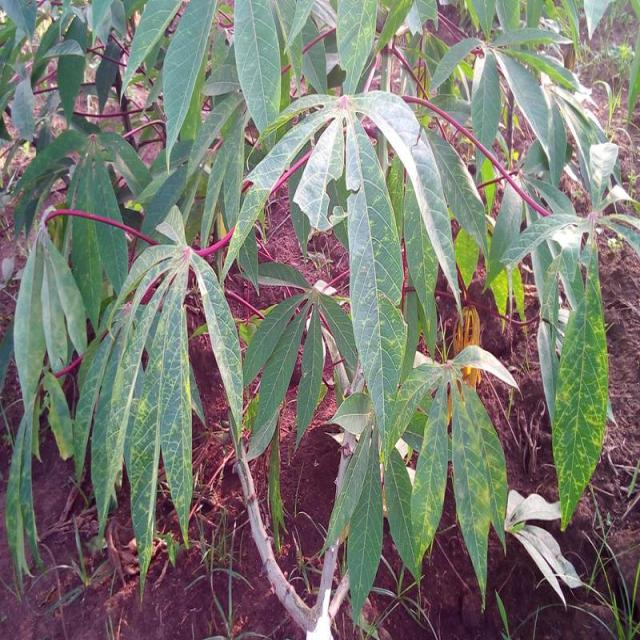cassava leaf: (2, 1, 638, 630), (551, 240, 611, 531)
